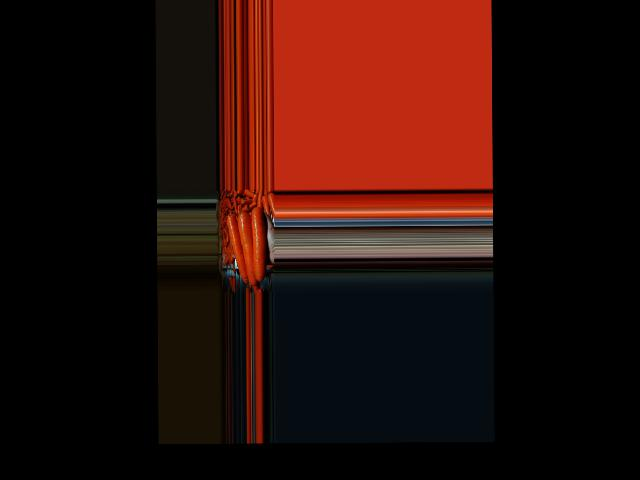carrot: (247, 205, 266, 284)
